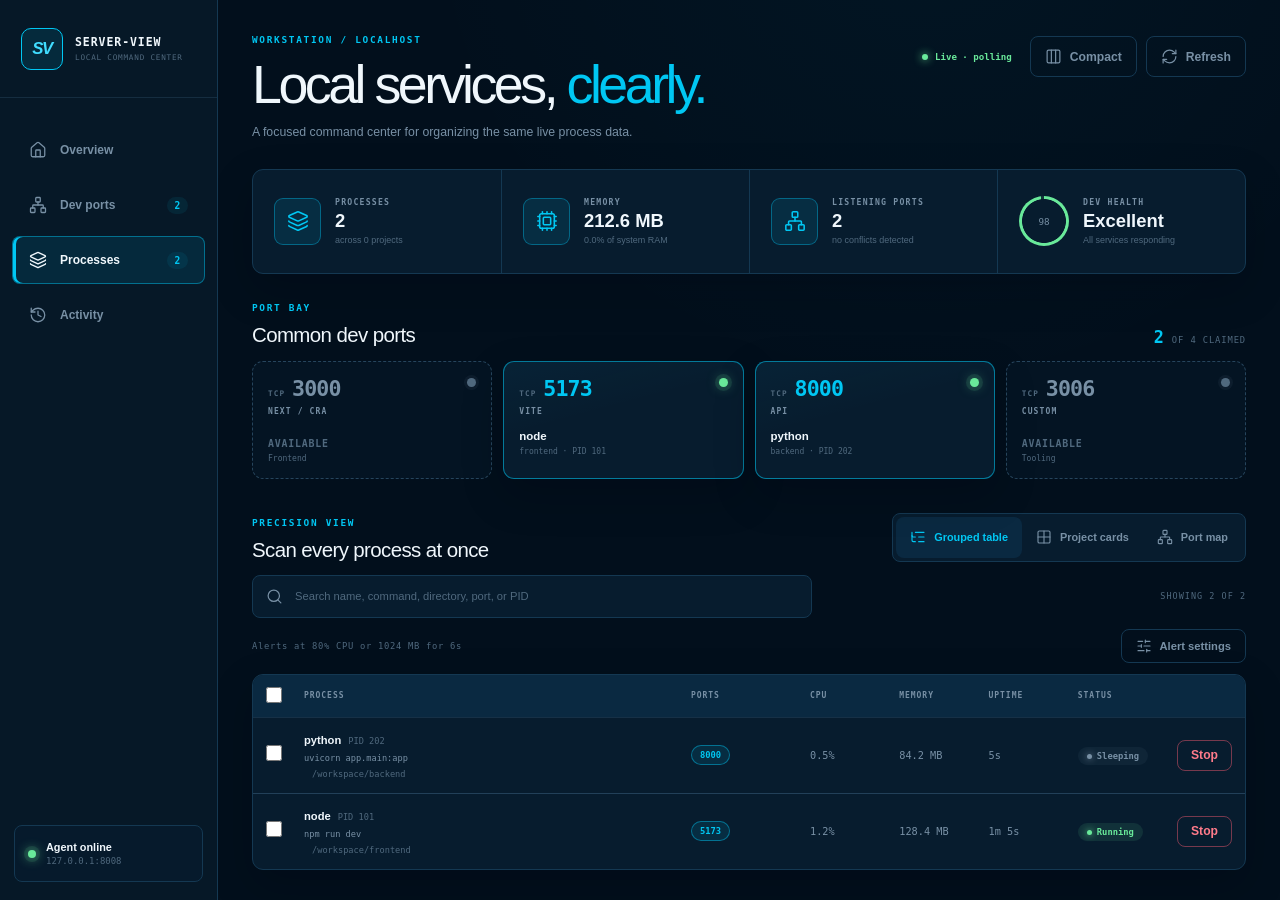
Scenario: App › opens stop confirmation from an occupied port bay slot
Expected: the text "npm run dev" is shown, [304,829,361,839]
Click the button with aria-label "TCP 5173 node" at [623, 420], box [503,361,744,479]
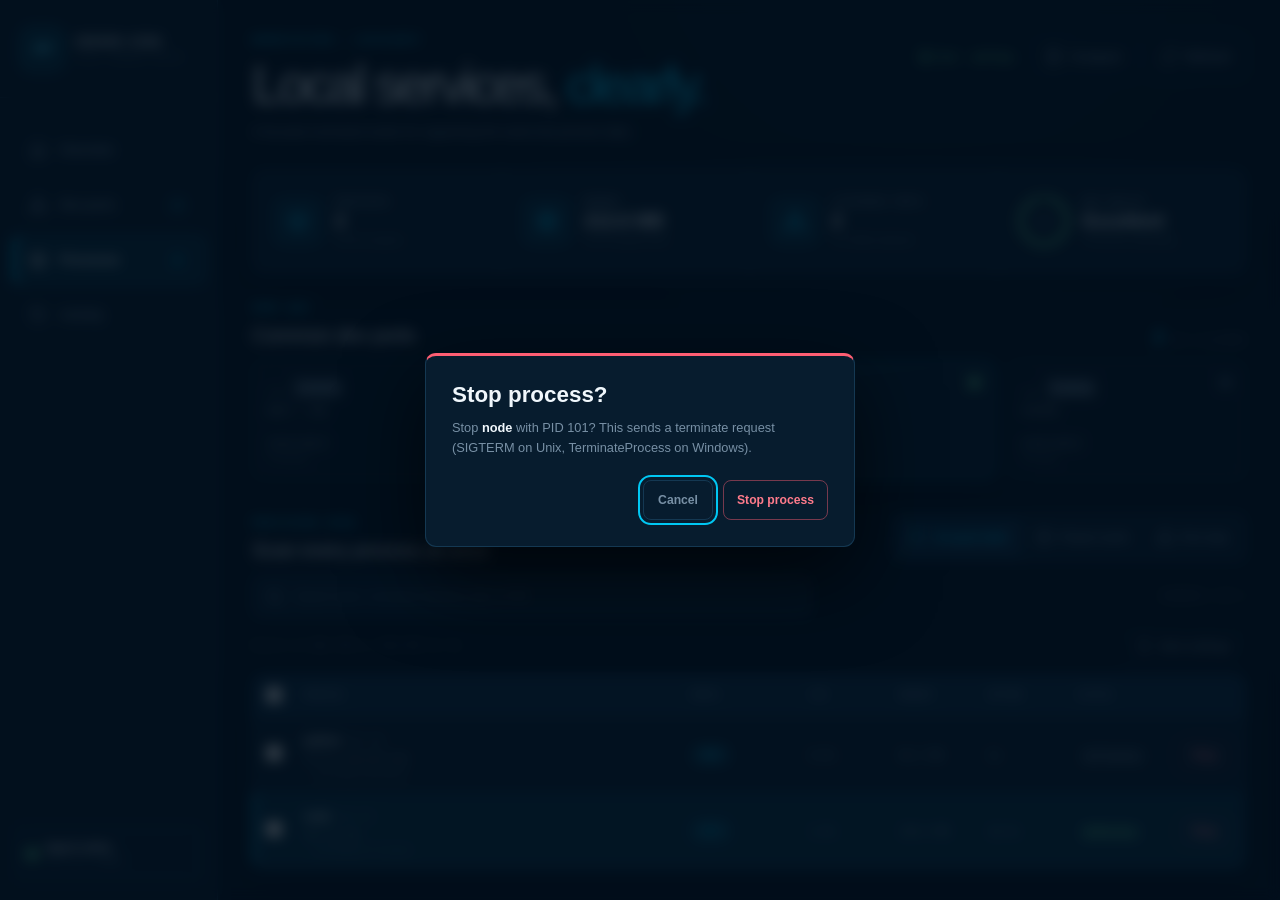
Now the dialog "Stop process?" is shown, box [425,352,855,547]
Now the text "PID 101" is shown, box [452,418,828,458]
